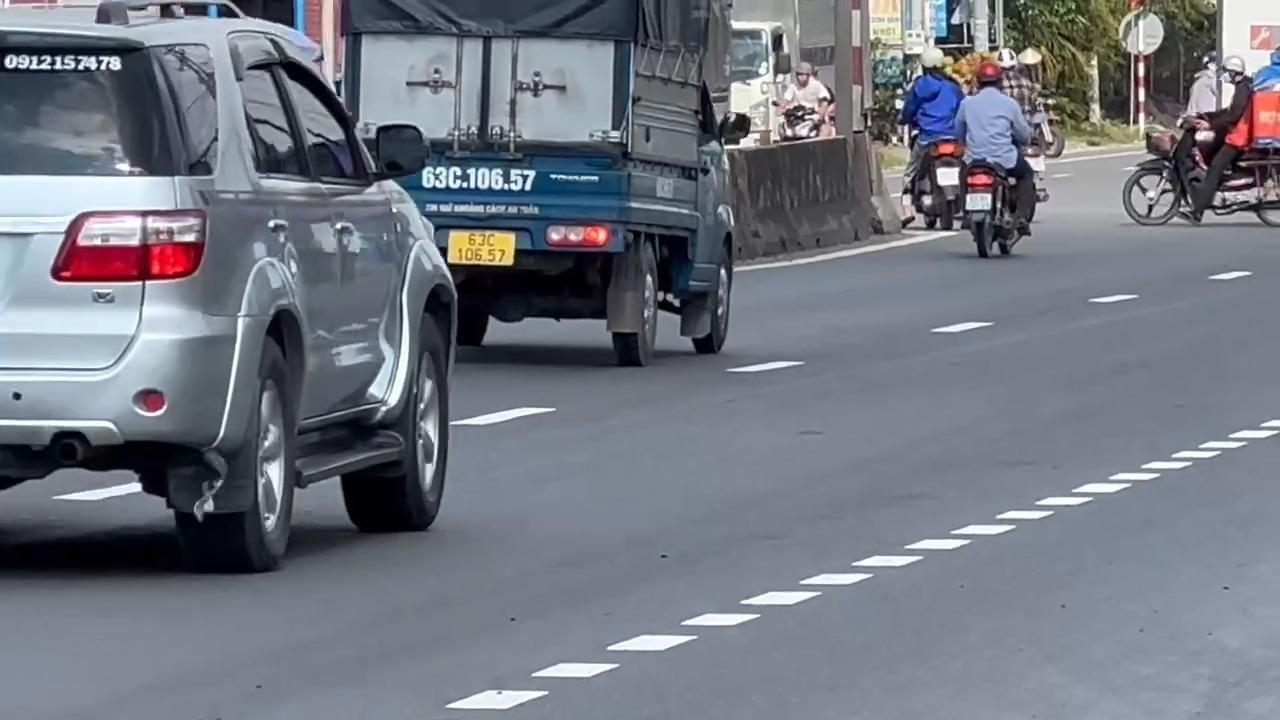bien_so: (445, 228, 516, 266)
